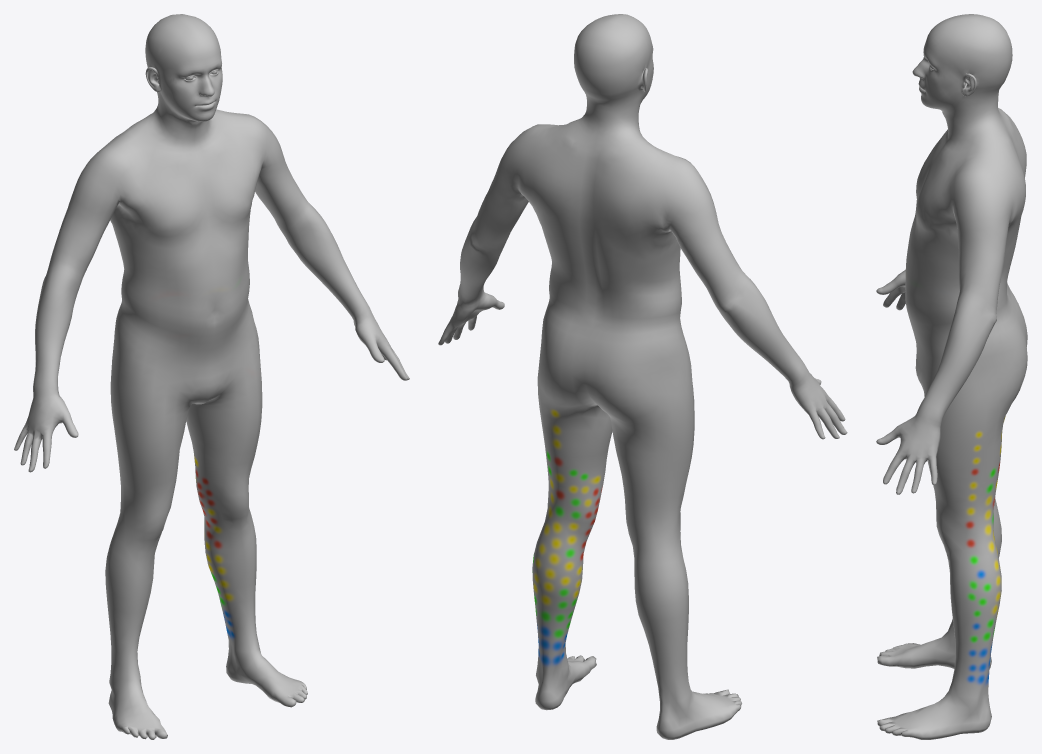
File: 1135018-hipflex-all.gltf
3 renders of one model, left to right at view 1: azimuth 30°, elevation 25°; view 2: azimuth 150°, elevation 25°; view 3: azimuth 270°, elevation 25°, orthographic. The views are drawn at different scales.
Parts seen in each view (by area): view 1: Male 68in 160lbs-A-pose; view 2: Male 68in 160lbs-A-pose; view 3: Male 68in 160lbs-A-pose.
Boxes of the visible parts, x1,y1,x2,y2 form: Male 68in 160lbs-A-pose: [14, 14, 409, 739]; Male 68in 160lbs-A-pose: [438, 14, 847, 739]; Male 68in 160lbs-A-pose: [876, 14, 1027, 739].
Size of the model in its own units: 4.32 by 7.33 by 1.47.
1 material, 1 textured.
